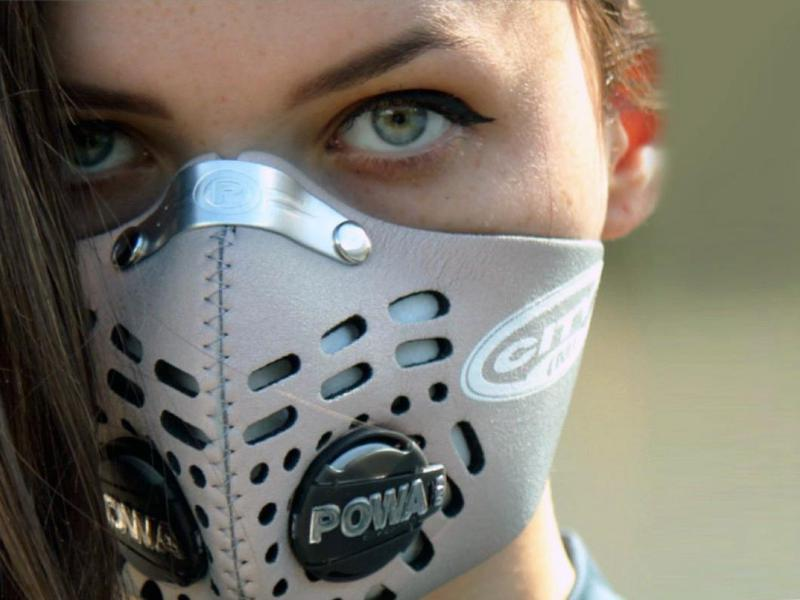with_mask: (41, 1, 614, 596)
